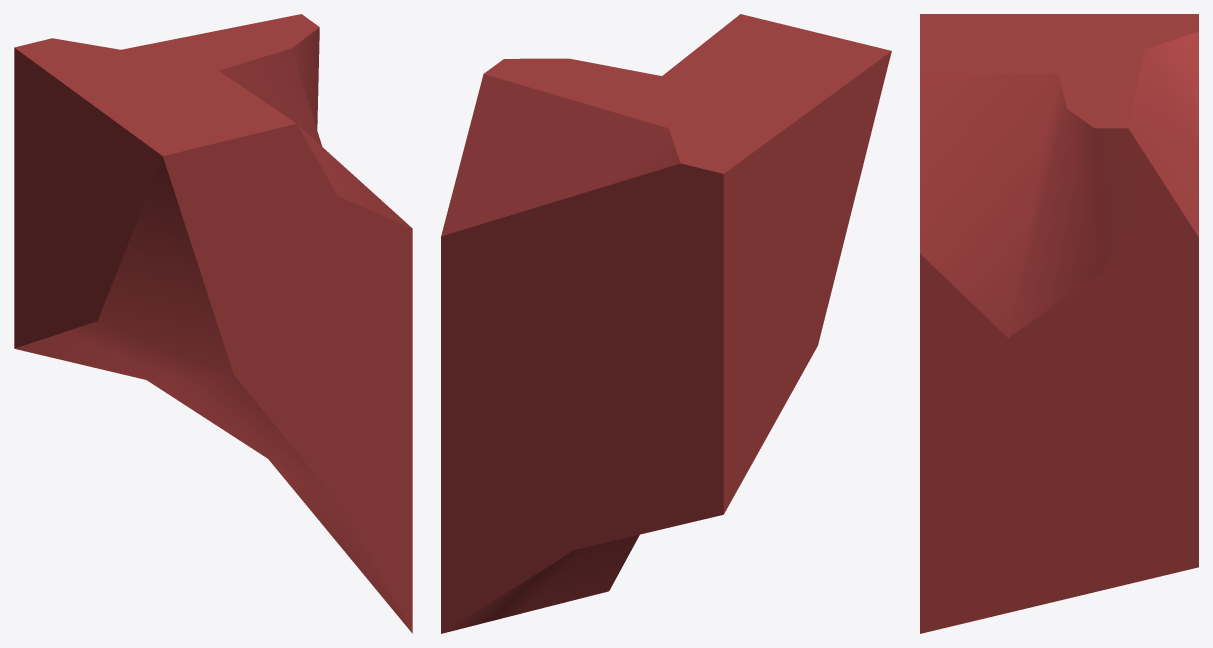
File: destructable_mid.fbx
3 views of the same model, side by side, from view 1: azimuth 30°, elevation 25°; view 2: azimuth 150°, elevation 25°; view 3: azimuth 270°, elevation 25° (orthographic). The views are drawn at different scales.
Visible parts, largest first — view 1: destCube_mid; view 2: destCube_mid; view 3: destCube_mid.
Boxes of the visible parts, <box> form: destCube_mid: <box>14,14,412,633</box>; destCube_mid: <box>441,14,891,633</box>; destCube_mid: <box>920,14,1198,633</box>.
Bounding box in the file's own units: 1.94 × 4 × 2.
